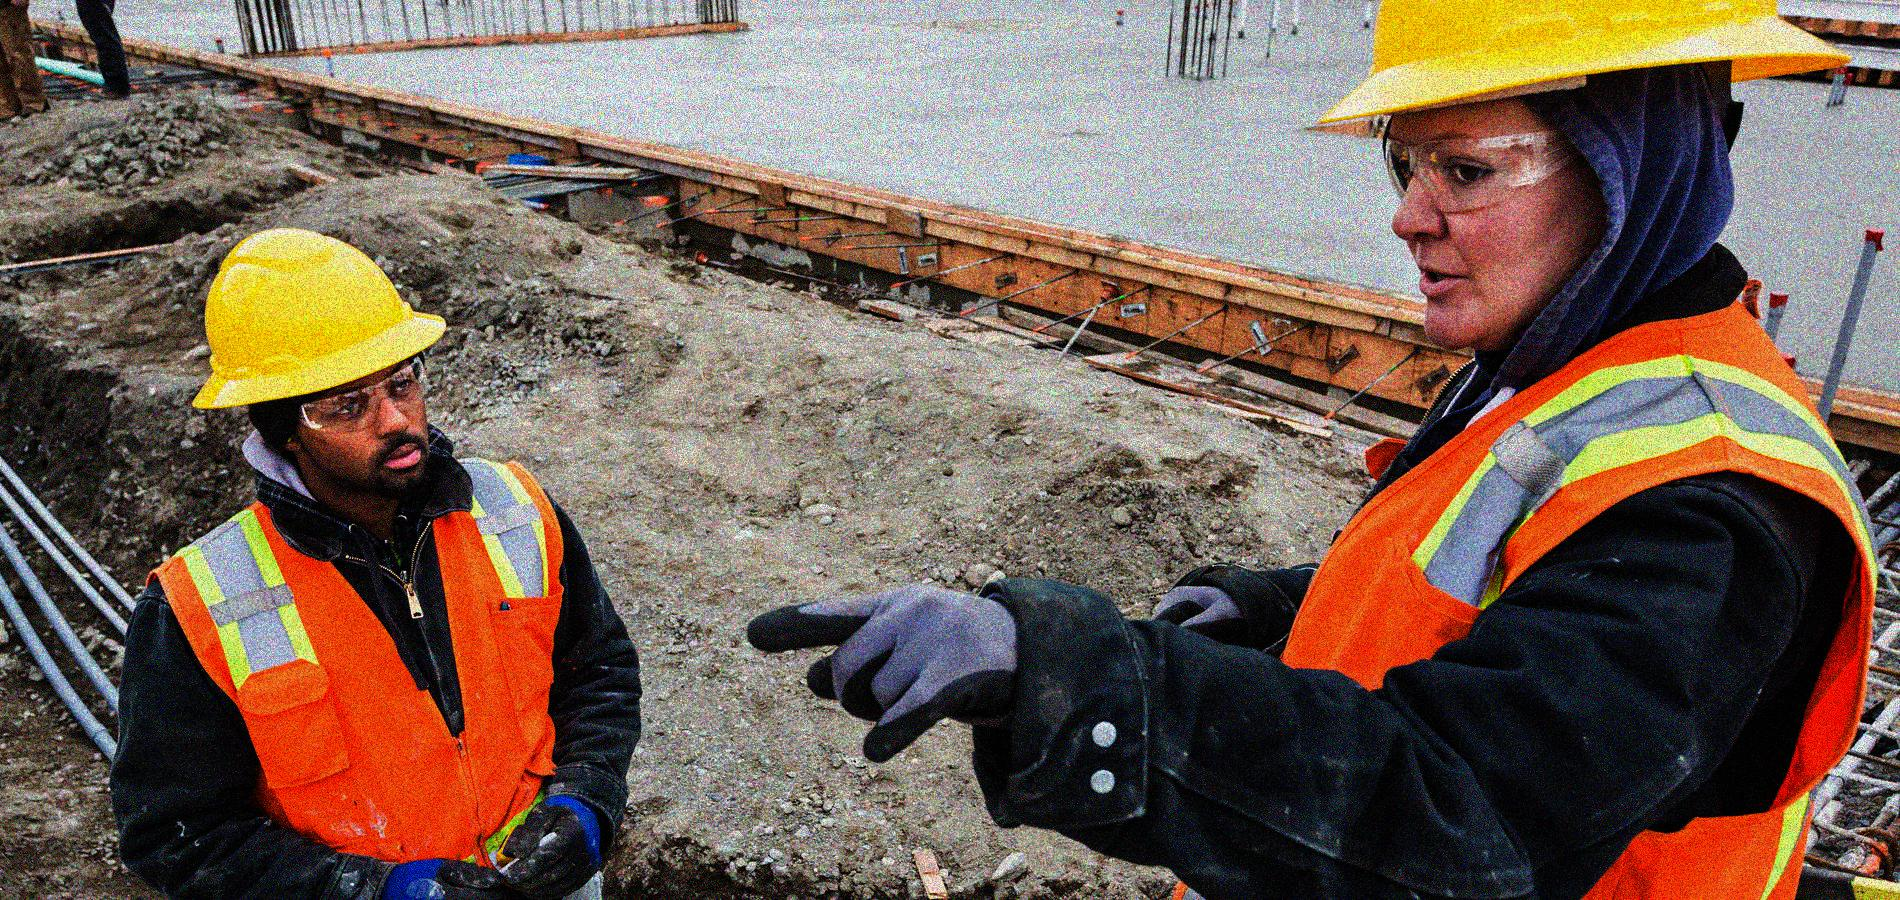helmet: (1290, 1, 1852, 342), (187, 227, 456, 487)
